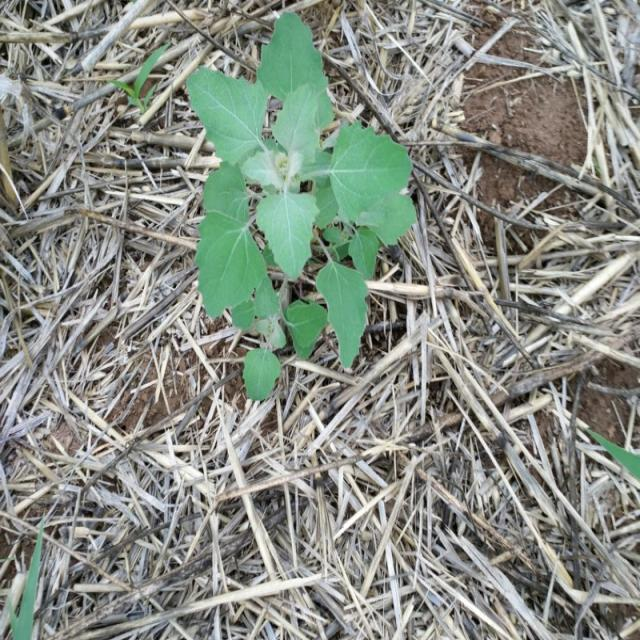goosefoots: (171, 9, 431, 392)
